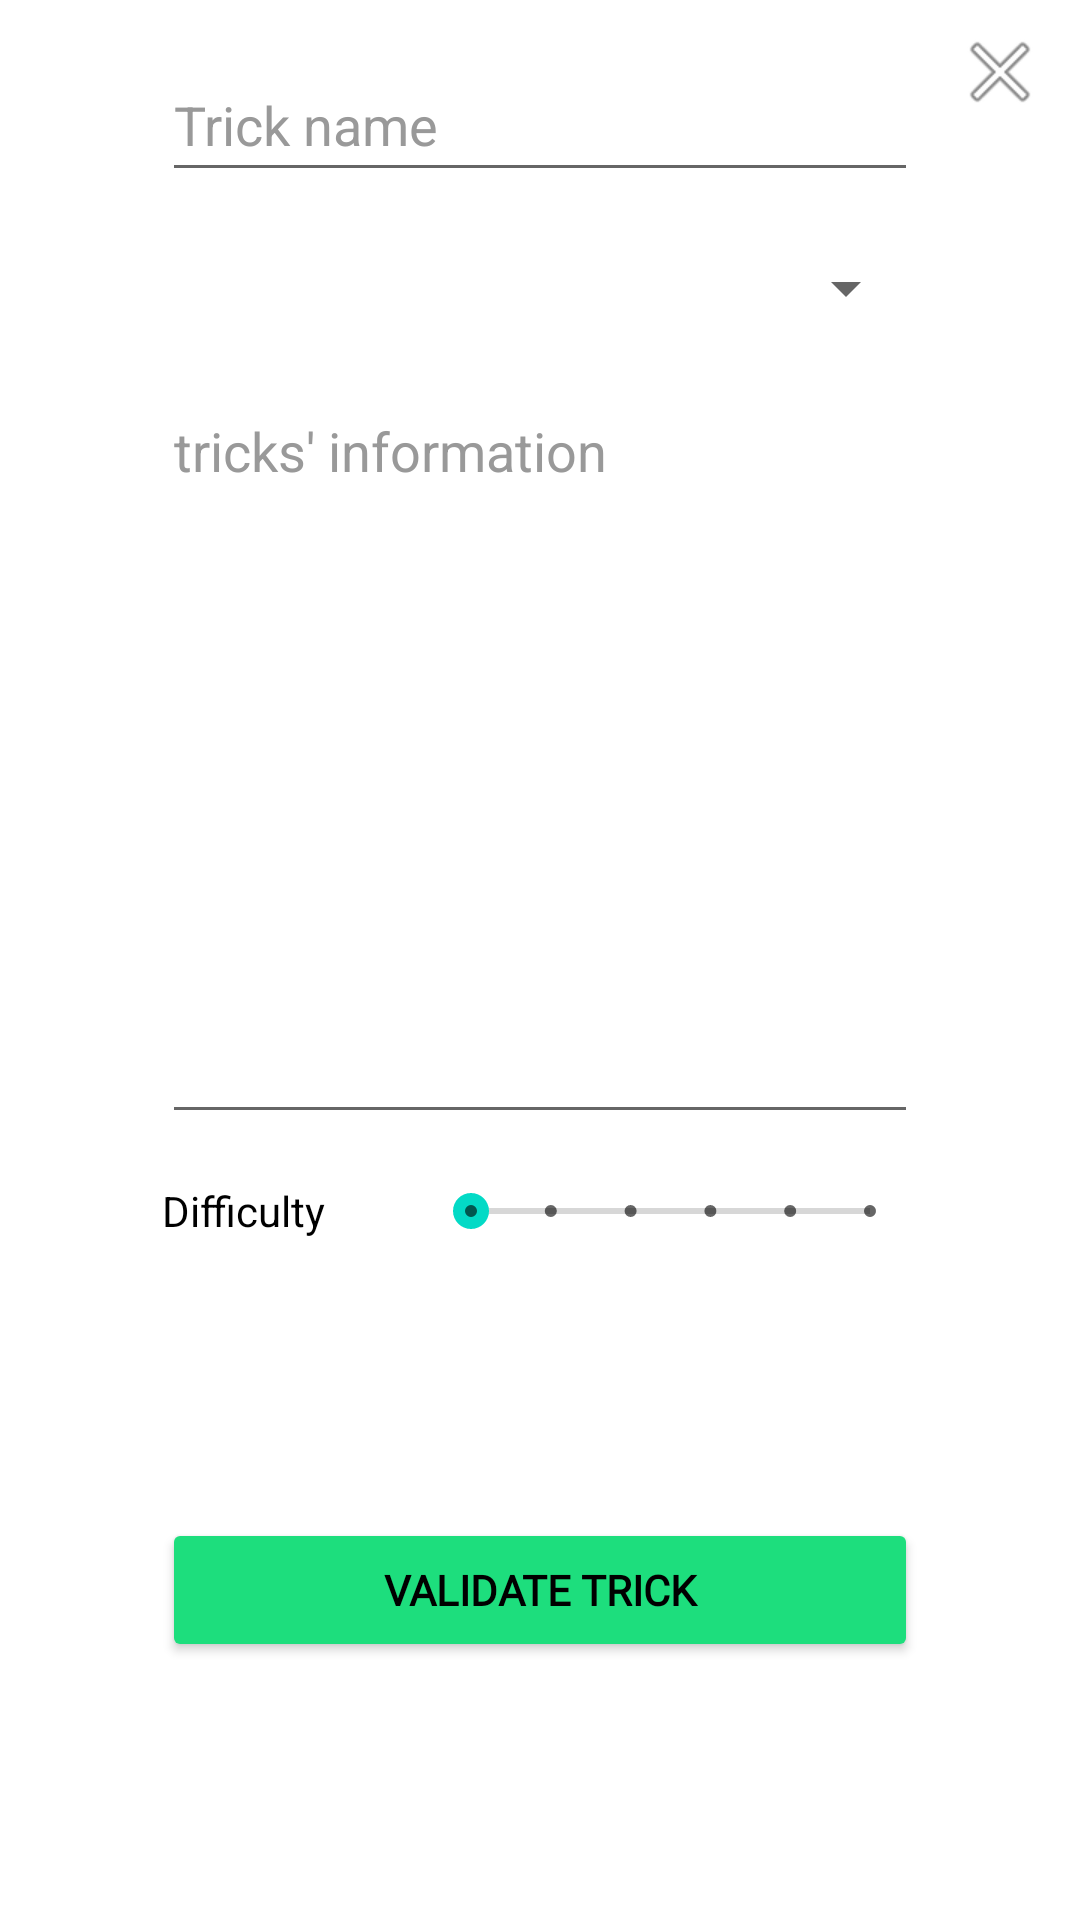

Screen size 1080x1920. Icon name, then its box in pixels as [x1=x1, y1=y1, x2=x2, y2=y2]:
close clear cancel: [x1=970, y1=42, x2=1030, y2=102]
